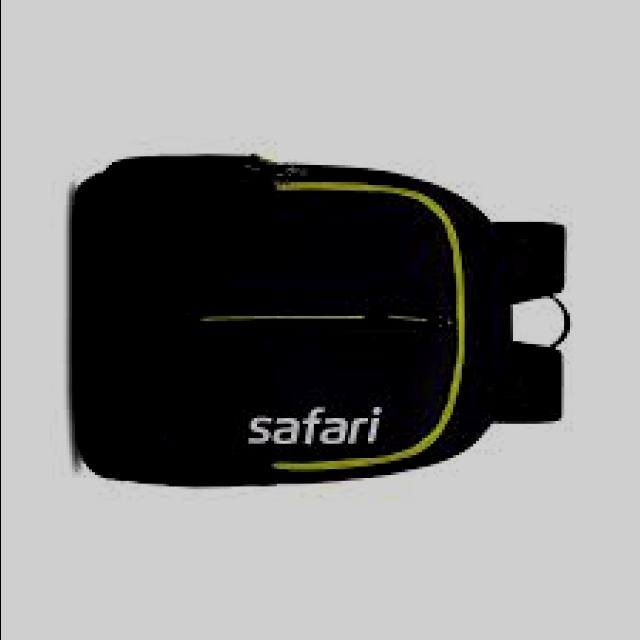backpack: (73, 152, 573, 488)
